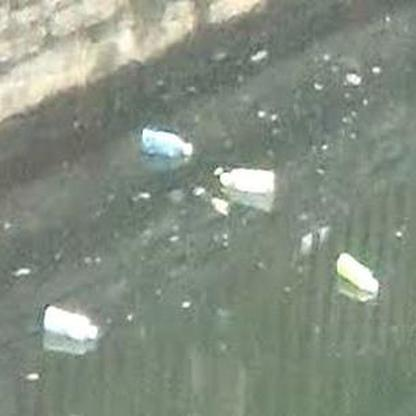plastic bottle: (42, 305, 97, 343), (337, 252, 379, 294), (140, 126, 192, 157)
